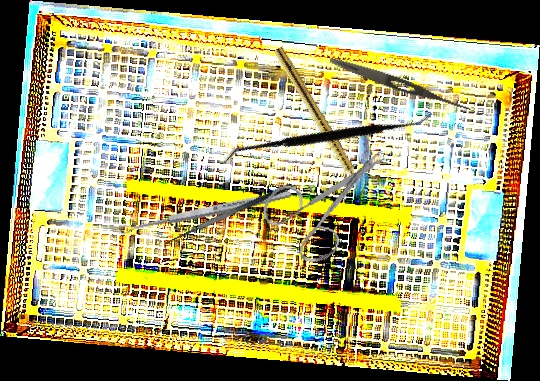Dressing Forceps: (327, 54, 474, 115)
Handpiece: (270, 45, 366, 193)
Iris Scissors: (254, 129, 389, 273)
Spatula Surgical: (221, 34, 436, 243), (158, 181, 298, 256)
Surgical Spoon: (116, 188, 293, 236)
